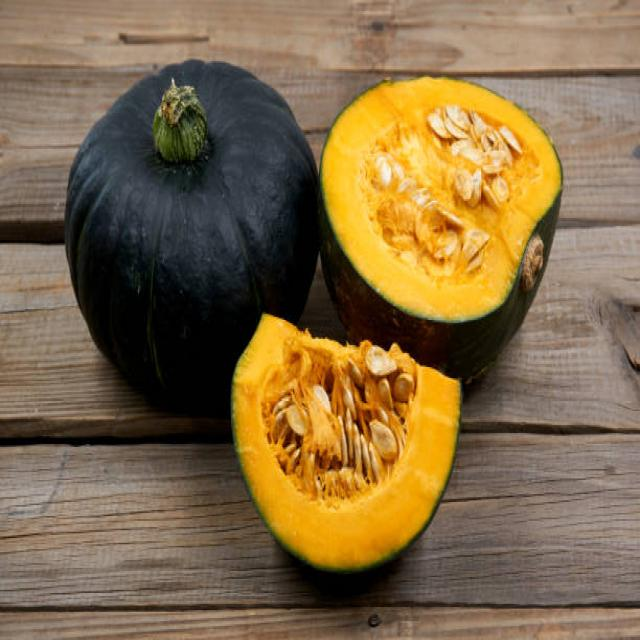pumpkin: (61, 61, 315, 324), (319, 70, 565, 336), (228, 337, 462, 580)
